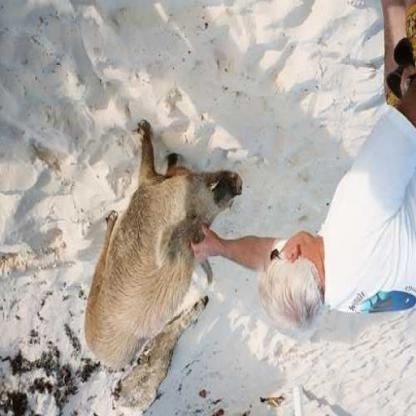boar: (17, 147, 272, 405)
